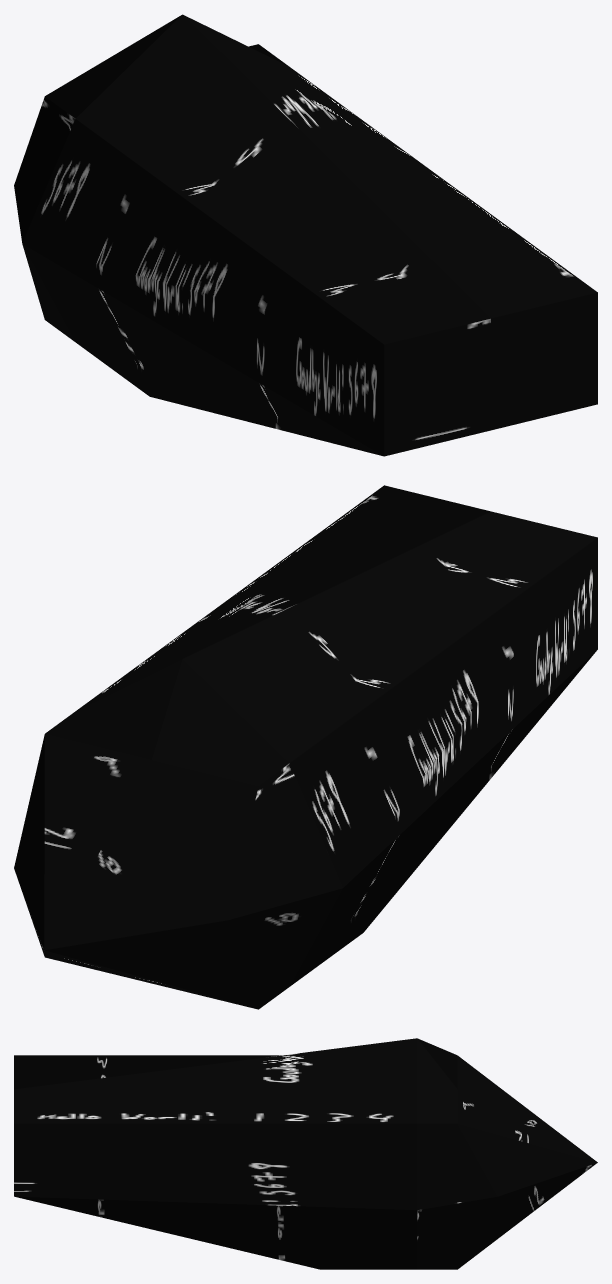
File: boid.obj
3 renders of one model, top to bottom at view 1: azimuth 30°, elevation 25°; view 2: azimuth 150°, elevation 25°; view 3: azimuth 270°, elevation 25°, orthographic. The views are drawn at different scales.
Parts seen in each view (by area): view 1: Cube; view 2: Cube; view 3: Cube.
Boxes of the visible parts, left/top/right/bottom form: Cube: left=14, top=14, right=597, bottom=456; Cube: left=14, top=485, right=597, bottom=1009; Cube: left=14, top=1038, right=597, bottom=1269.
Bounding box in the file's own units: 2.9 × 2.7 × 7.24.
Materials: 1 (1 with a texture image).
